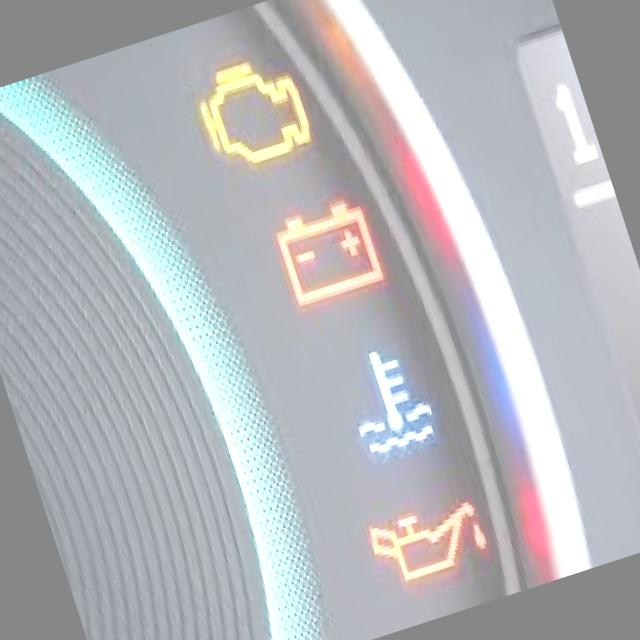kontrolka: (178, 32, 330, 195), (358, 481, 516, 624), (323, 328, 462, 489), (264, 185, 411, 334)
